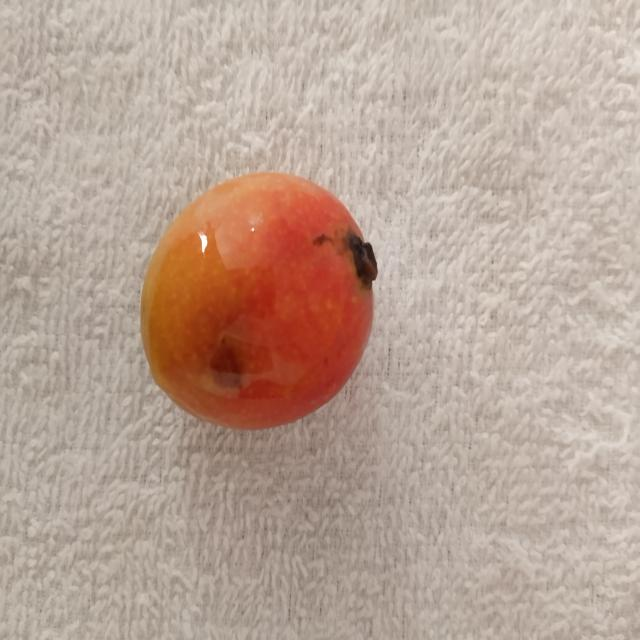mango: (138, 171, 382, 434)
